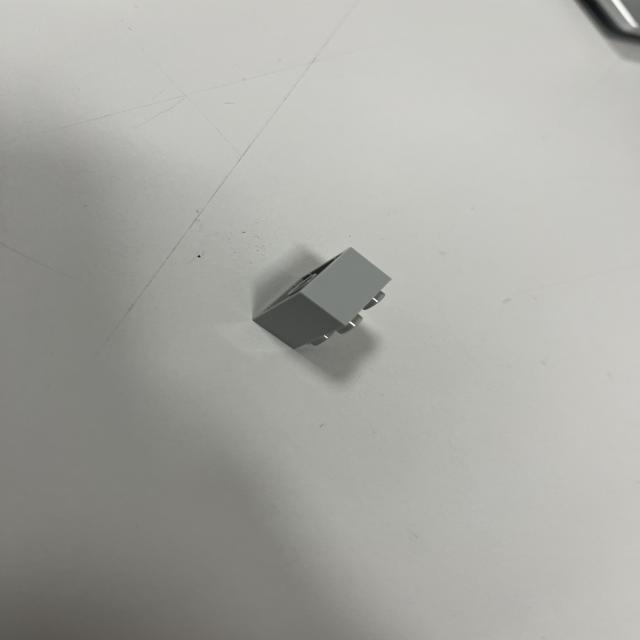C2x2x1: (252, 245, 394, 352)
